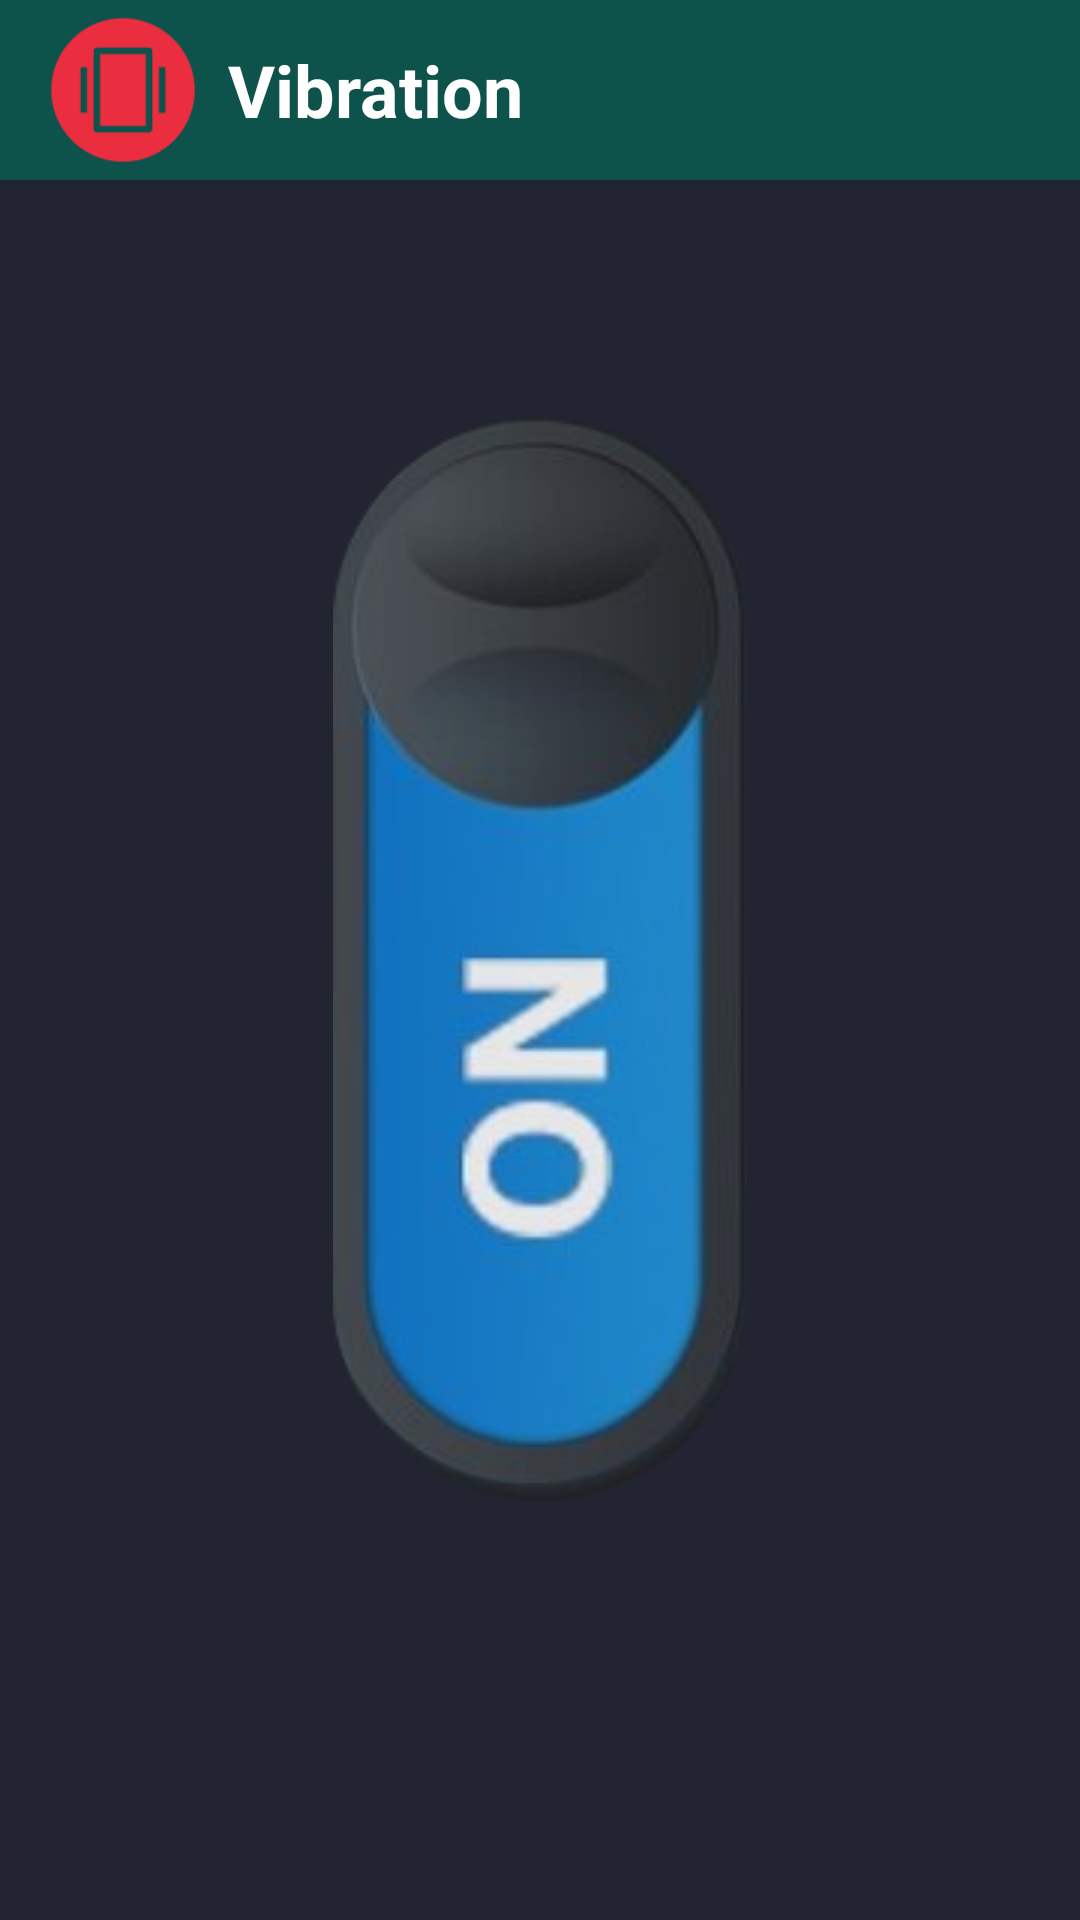

Where icons sit on this 1080w x 1920h app screen, as (x1, y1, x2, y2):
vibrateicon: (50, 17, 196, 163)
